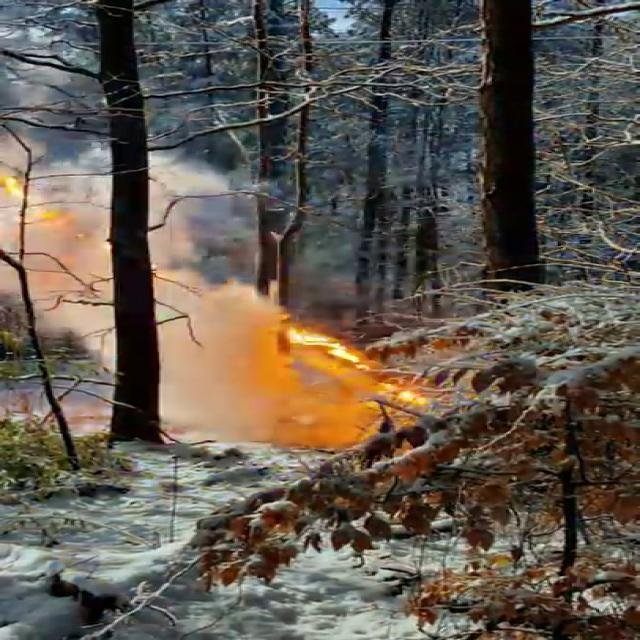Smoke: (2, 152, 424, 452)
